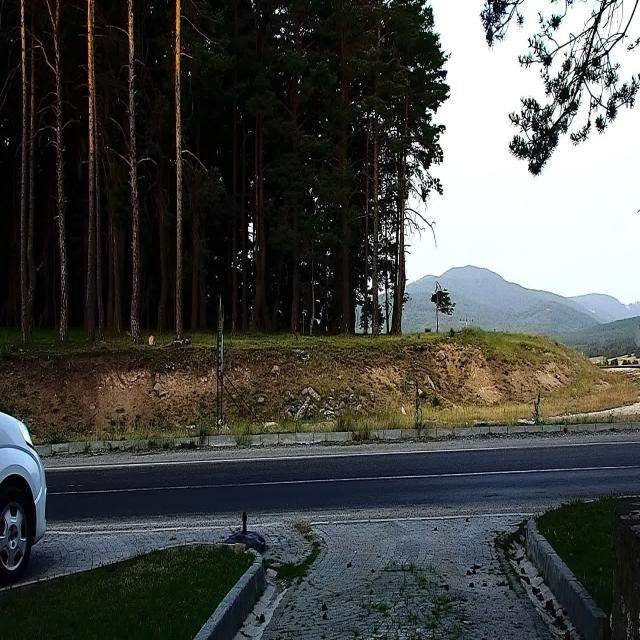Car: (0, 400, 48, 583)
